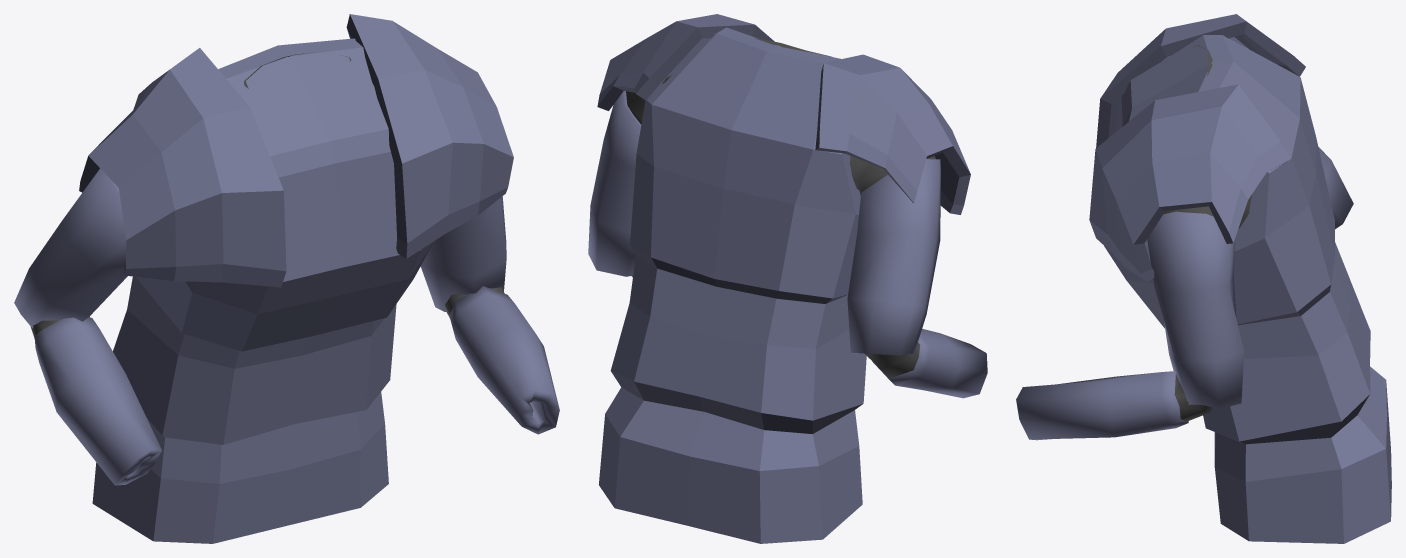
Rendered from Platebody.fbx.
3 views of the same model, side by side, from view 1: azimuth 30°, elevation 25°; view 2: azimuth 150°, elevation 25°; view 3: azimuth 270°, elevation 25° (orthographic). The views are drawn at different scales.
Visible parts, largest first — view 1: Platebody; view 2: Platebody; view 3: Platebody.
Boxes of the visible parts, left/top/right/bottom form: Platebody: left=14, top=14, right=559, bottom=543; Platebody: left=588, top=14, right=987, bottom=543; Platebody: left=1016, top=14, right=1391, bottom=543.
Bounding box in the file's own units: 62.34 × 67.97 × 52.74.
